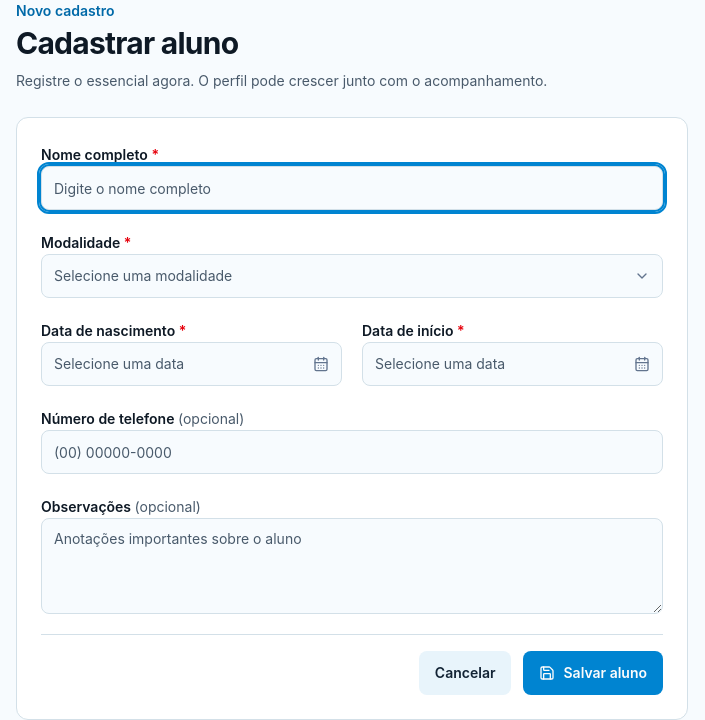
StudentForm › exibe validação para nome vazio
(page scrolled)
Step 1. Click the button "Salvar aluno" → click(593, 673), box [524,651,663,695]
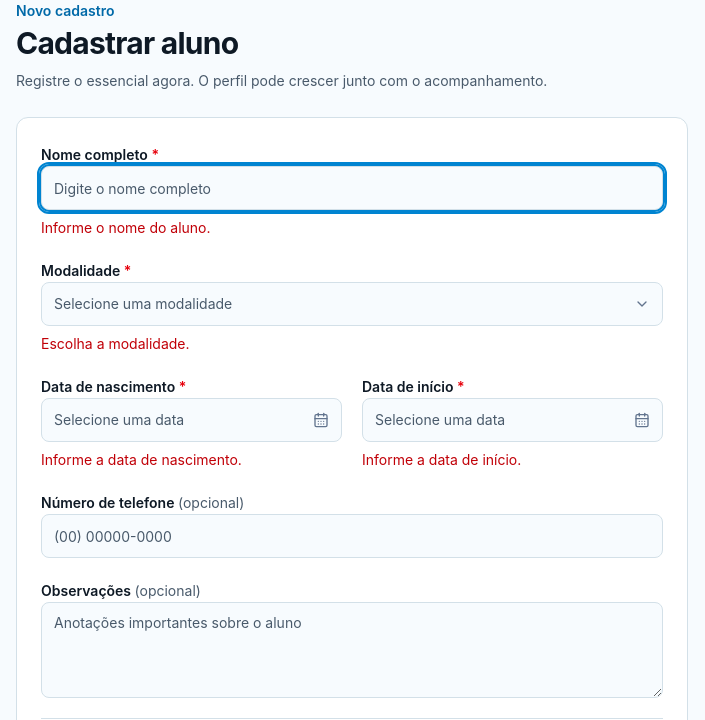
Check: the text "Informe o nome do aluno." is shown, box [41,219,210,236]
